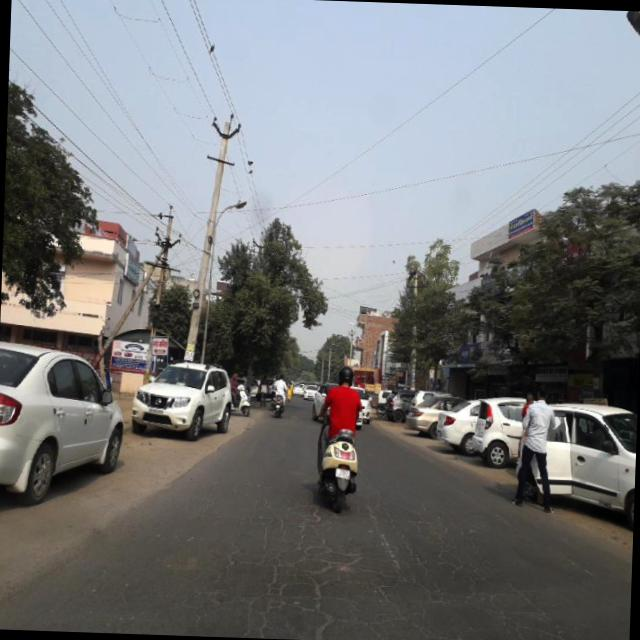crack: (209, 499, 535, 640)
